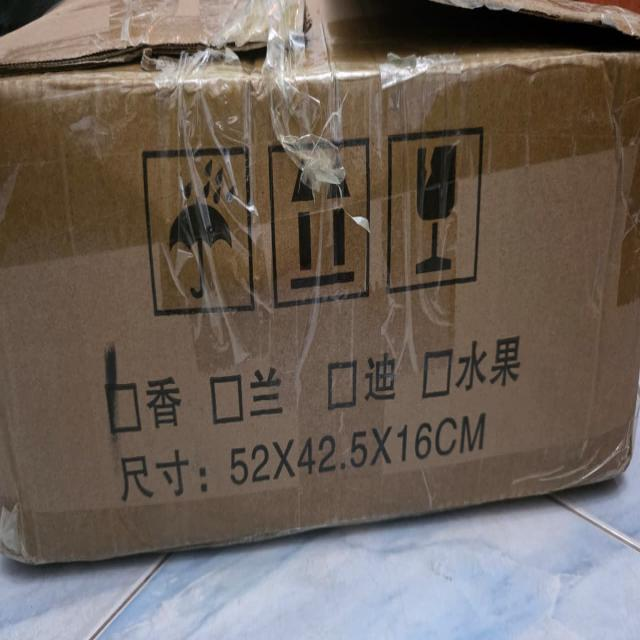carton_box: (0, 3, 640, 580)
fragile_label: (386, 130, 482, 298)
keep_dry_label: (139, 145, 258, 324)
package_damage: (0, 18, 640, 101)
this_side_up_label: (263, 128, 381, 312)
